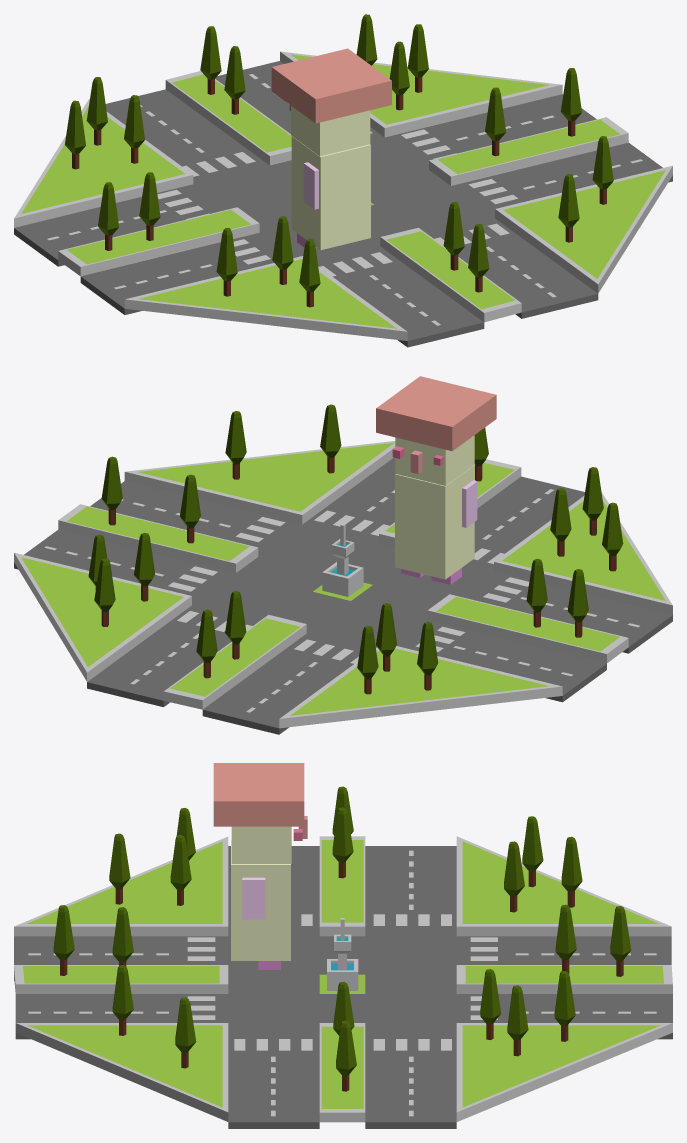
The picture shows the model from 3 angles, top to bottom: view 1: azimuth 30°, elevation 25°; view 2: azimuth 150°, elevation 25°; view 3: azimuth 270°, elevation 25°; orthographic projection. The views are drawn at different scales.
Parts seen in each view (by area): view 1: Cube_Cube.001, Cube, Cube.011, Cube.001, Cylinder.014, Cylinder.008, Cylinder.010, Cylinder.012, Cylinder.013, Cylinder.016, Cylinder.004, Cylinder.011 (+12 smaller); view 2: Cube_Cube.001, Cube, Cube.011, Cube.001, Cylinder.006, Cylinder.004, Cylinder.018, Cylinder.012, Cylinder.011, Cylinder.015, Cylinder, Cylinder.002 (+11 smaller); view 3: Cube_Cube.001, Cube.011, Cube, Cube.001, Cube.009, Cylinder.012, Cylinder.001, Cylinder.008, Cylinder.015, Cylinder.007, Cylinder.013, Cylinder.002 (+14 smaller).
Part boxes in pixels (x1,y1,x2,y2): Cube_Cube.001: [14, 51, 672, 347]; Cube: [291, 136, 370, 250]; Cube.011: [271, 48, 391, 123]; Cube.001: [291, 106, 370, 156]; Cylinder.014: [443, 202, 464, 270]; Cylinder.008: [139, 172, 160, 240]; Cylinder.010: [272, 216, 293, 284]; Cylinder.012: [299, 238, 320, 307]; Cylinder.013: [468, 224, 489, 292]; Cylinder.016: [592, 136, 613, 204]; Cylinder.004: [200, 26, 221, 94]; Cylinder.011: [216, 228, 237, 296]; Cube_Cube.001: [14, 441, 672, 734]; Cube: [395, 465, 474, 579]; Cube.011: [376, 376, 496, 451]; Cube.001: [395, 435, 474, 485]; Cylinder.006: [357, 625, 378, 694]; Cylinder.004: [196, 609, 217, 678]; Cylinder.018: [101, 456, 122, 525]; Cylinder.012: [582, 467, 603, 535]; Cylinder.011: [602, 502, 623, 571]; Cylinder.015: [320, 404, 341, 473]; Cylinder: [134, 532, 155, 601]; Cylinder.002: [94, 558, 115, 626]; Cube_Cube.001: [14, 836, 672, 1128]; Cube.011: [213, 763, 304, 826]; Cube: [231, 839, 290, 960]; Cube.001: [231, 826, 291, 863]; Cube.009: [242, 877, 265, 919]; Cylinder.012: [109, 833, 130, 904]; Cylinder.001: [507, 985, 528, 1056]; Cylinder.008: [332, 807, 353, 878]; Cylinder.015: [112, 965, 133, 1035]; Cylinder.007: [522, 816, 543, 887]; Cylinder.013: [53, 905, 74, 975]; Cylinder.002: [554, 971, 575, 1041].
Size of the model in its own units: 40.03 by 12.3 by 40.33.
